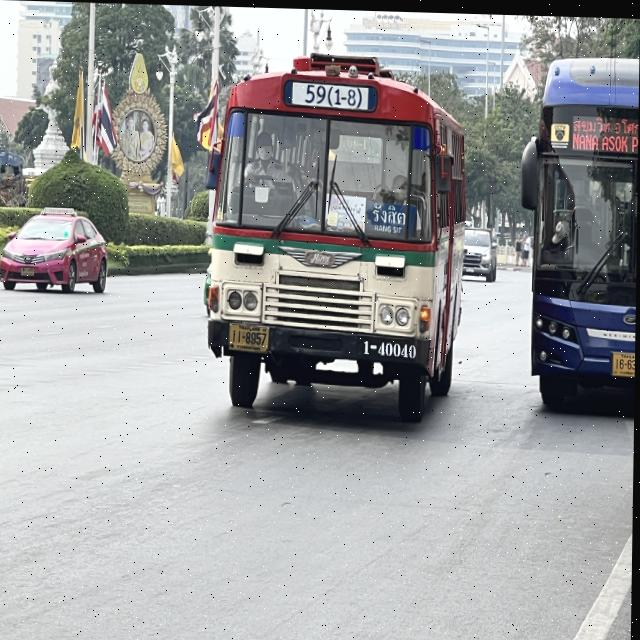BMTA-bus: (202, 50, 470, 425)
Bus-Line-Number: (284, 75, 381, 114)
Destination-Sign-Normal: (365, 196, 419, 239)
TSB-Bus: (517, 50, 640, 415)
